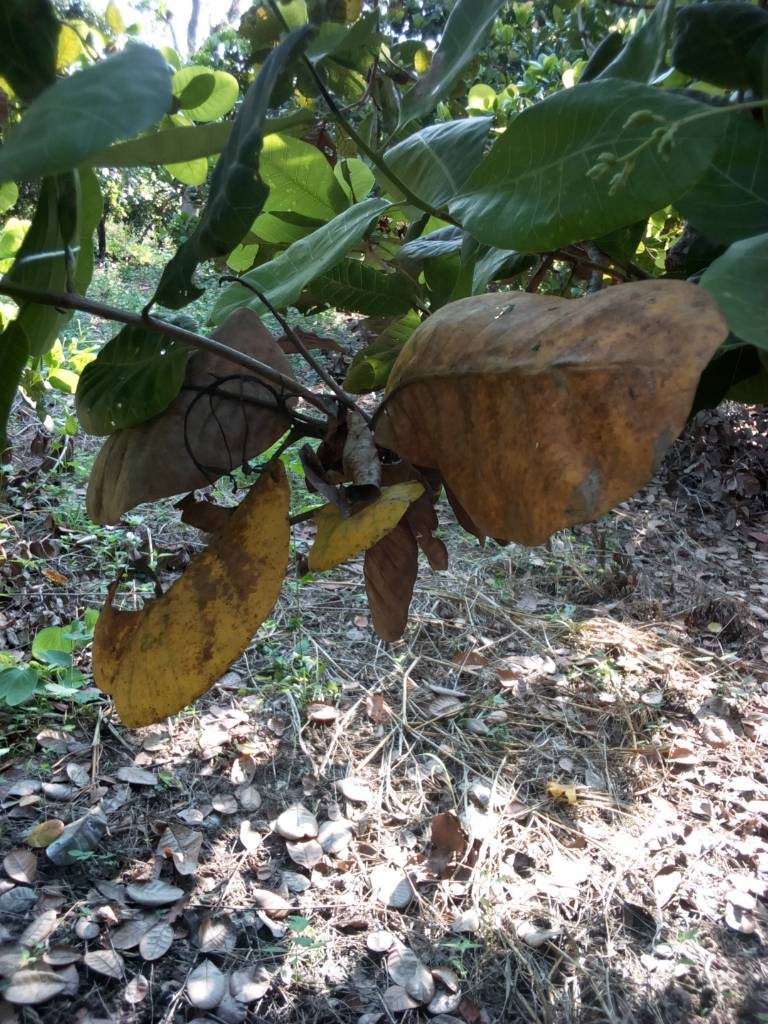Dessèchement des bourgeons: (182, 372, 288, 491), (321, 408, 382, 483)
